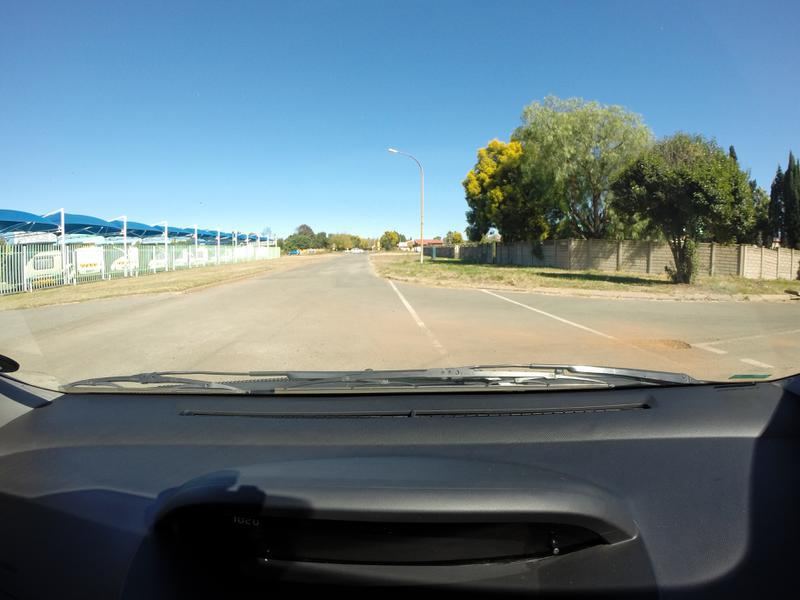pothole: (638, 331, 708, 352)
